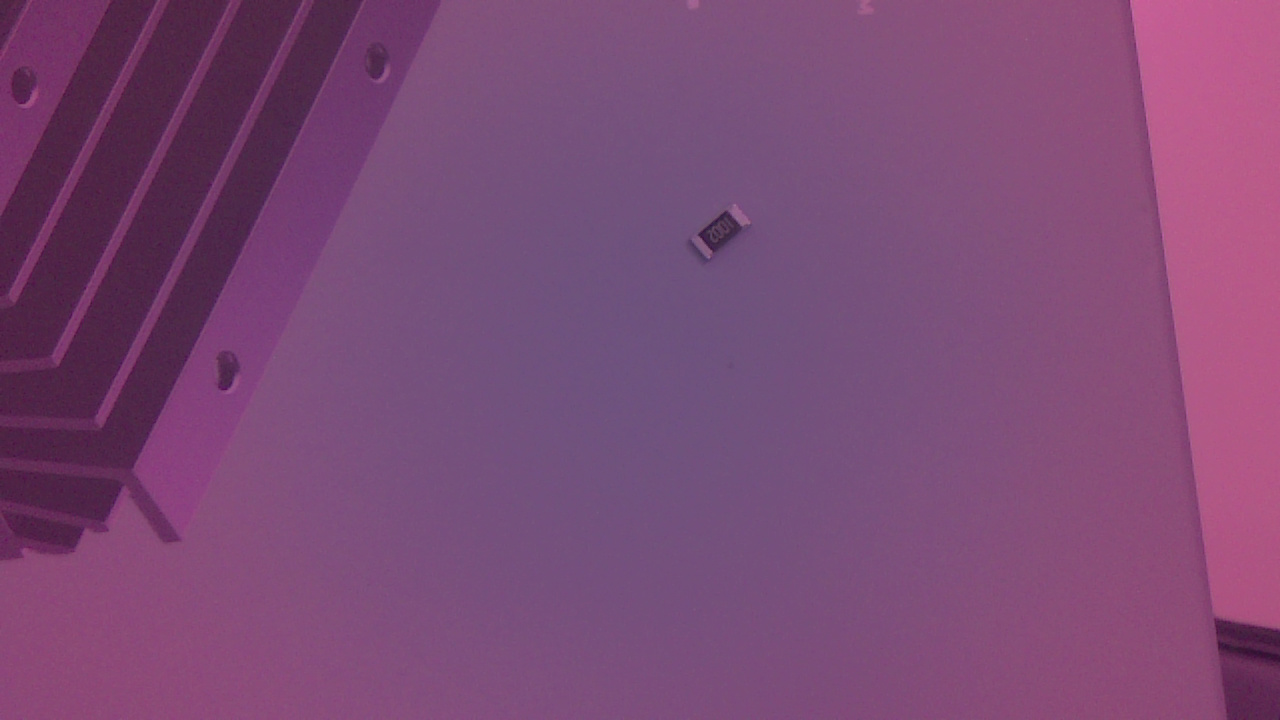Resistor: (689, 200, 762, 274)
